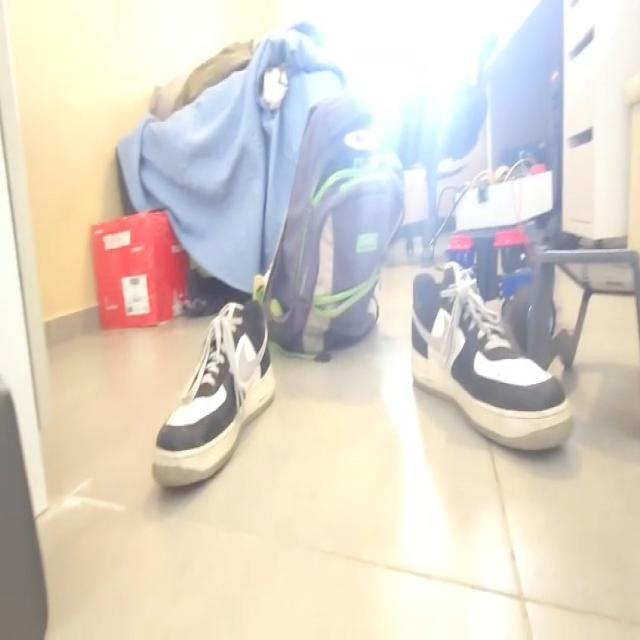Robot: (441, 159, 555, 354)
